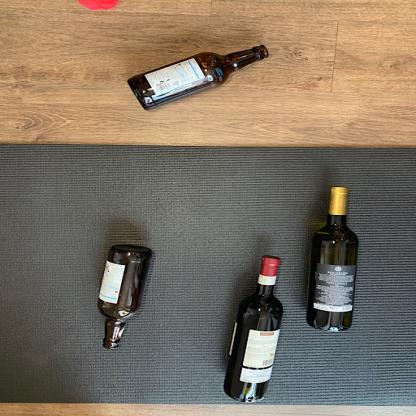trash: (222, 254, 288, 404), (128, 44, 272, 112), (302, 186, 365, 332), (92, 242, 155, 350)
